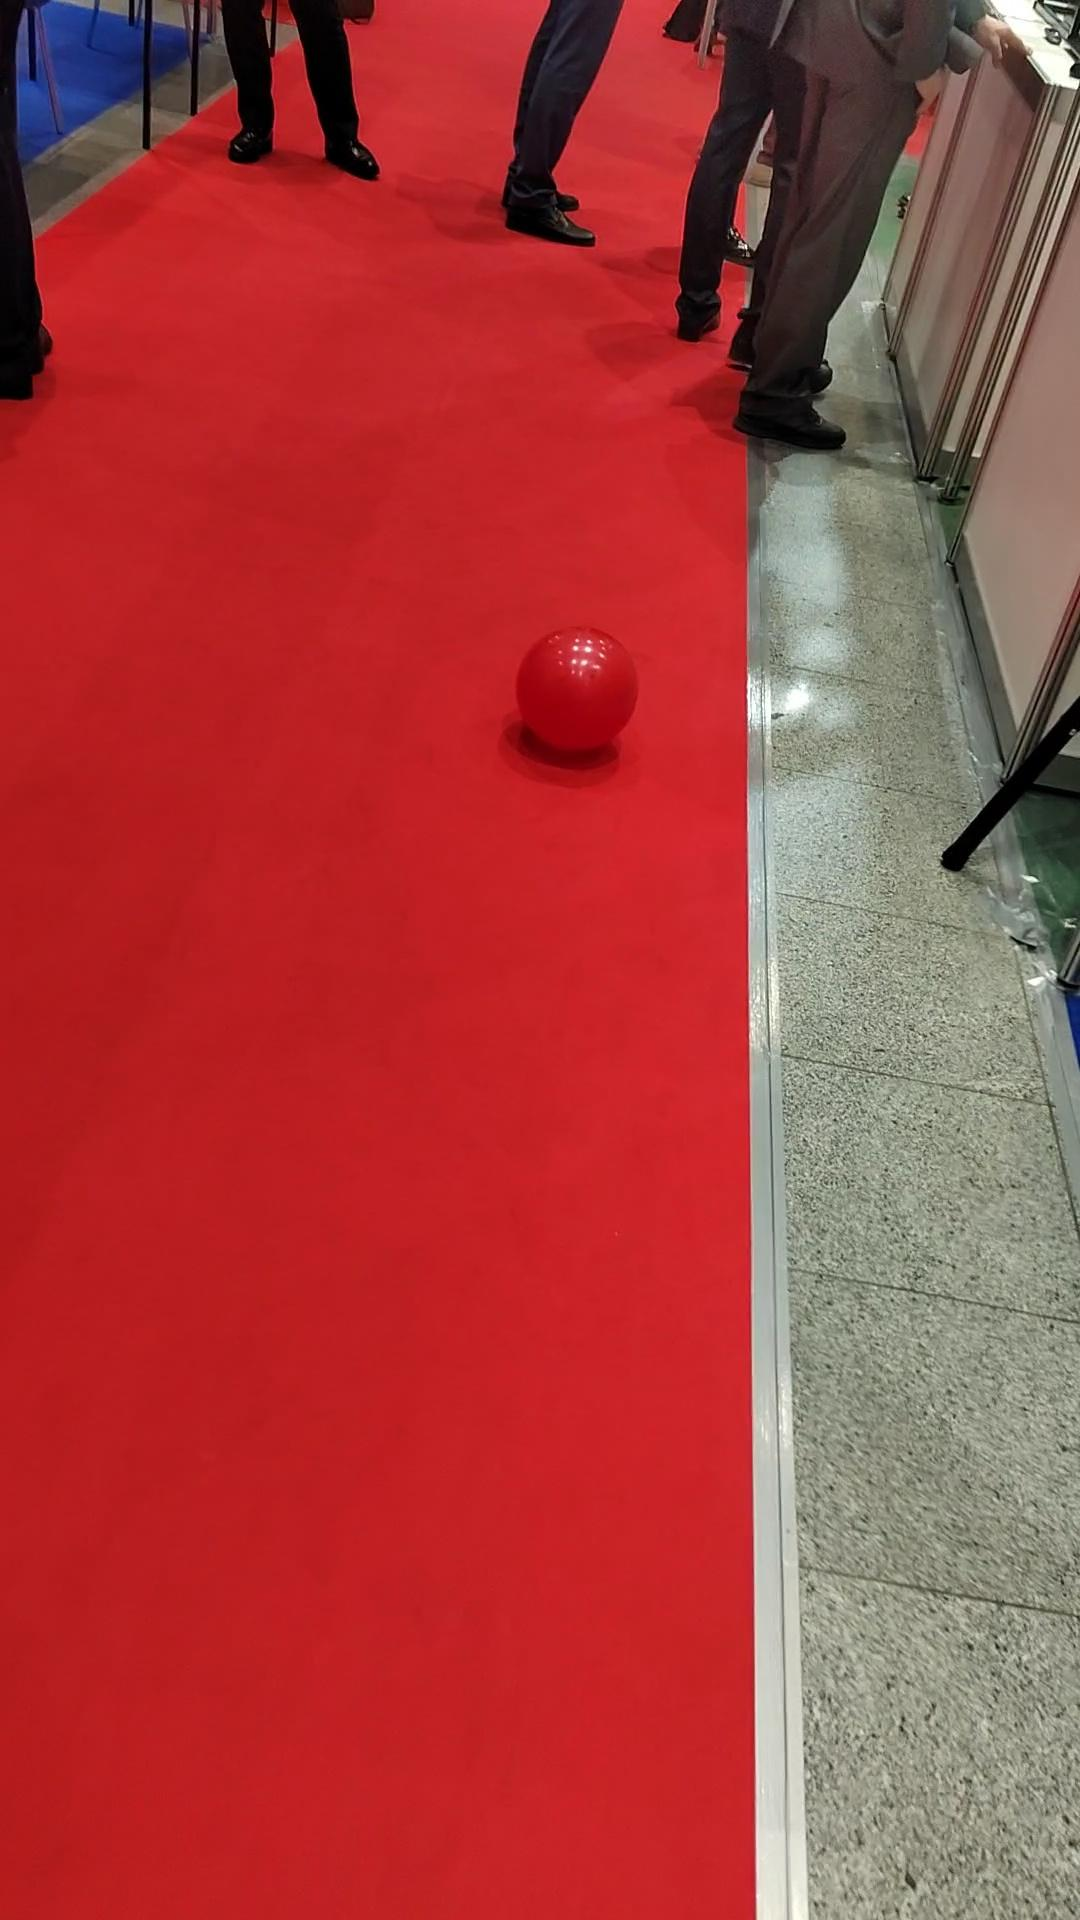red: (515, 627, 639, 754)
